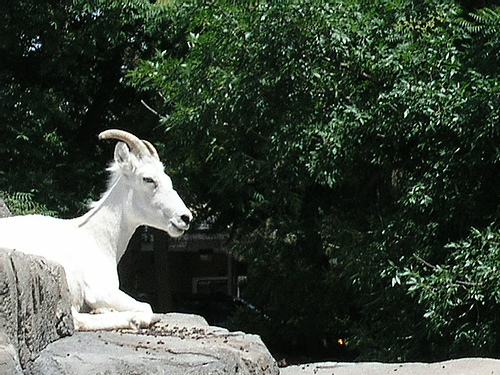goat: (1, 129, 193, 332)
